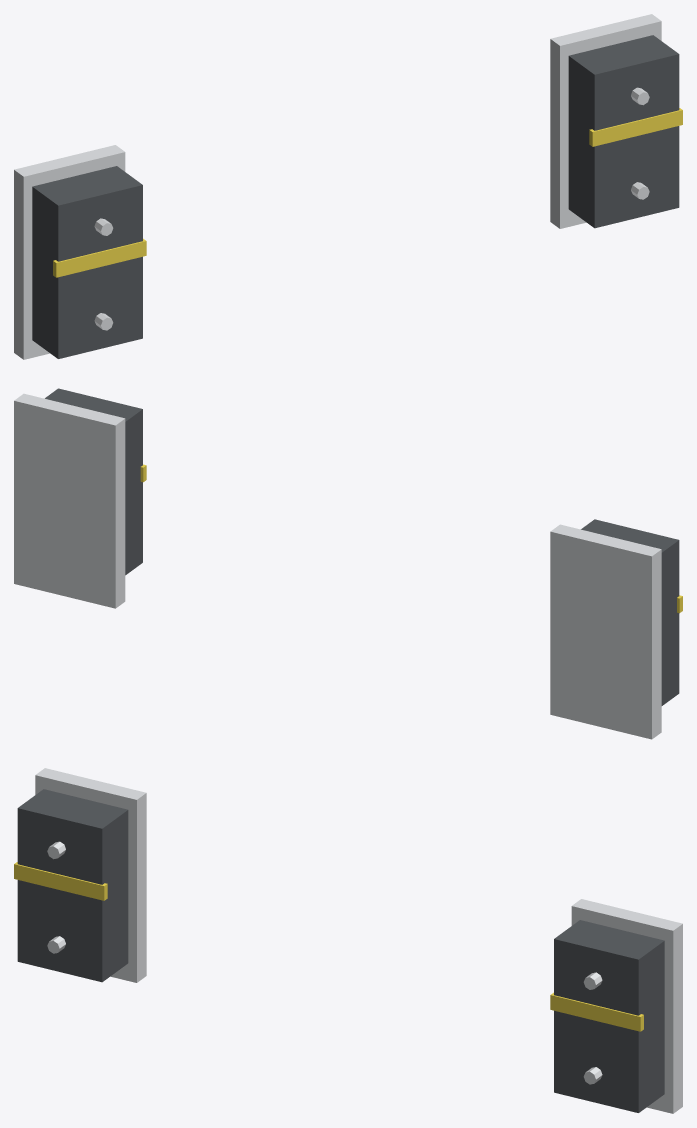
File: dock-bumper-pair.glb
The picture shows the model from 3 angles, top to bottom: view 1: azimuth 30°, elevation 25°; view 2: azimuth 150°, elevation 25°; view 3: azimuth 330°, elevation 25°; orthographic projection.
Parts seen in each view (by area): view 1: parcel-depot-and-sorting-hall-dock-bumper-pair; view 2: parcel-depot-and-sorting-hall-dock-bumper-pair; view 3: parcel-depot-and-sorting-hall-dock-bumper-pair.
Boxes of the visible parts, x1=… form: parcel-depot-and-sorting-hall-dock-bumper-pair: x1=14, y1=14, x2=682, y2=359; parcel-depot-and-sorting-hall-dock-bumper-pair: x1=14, y1=388, x2=682, y2=739; parcel-depot-and-sorting-hall-dock-bumper-pair: x1=14, y1=768, x2=682, y2=1113.
Size of the model in its own units: 2.26 by 0.62 by 0.2599.
